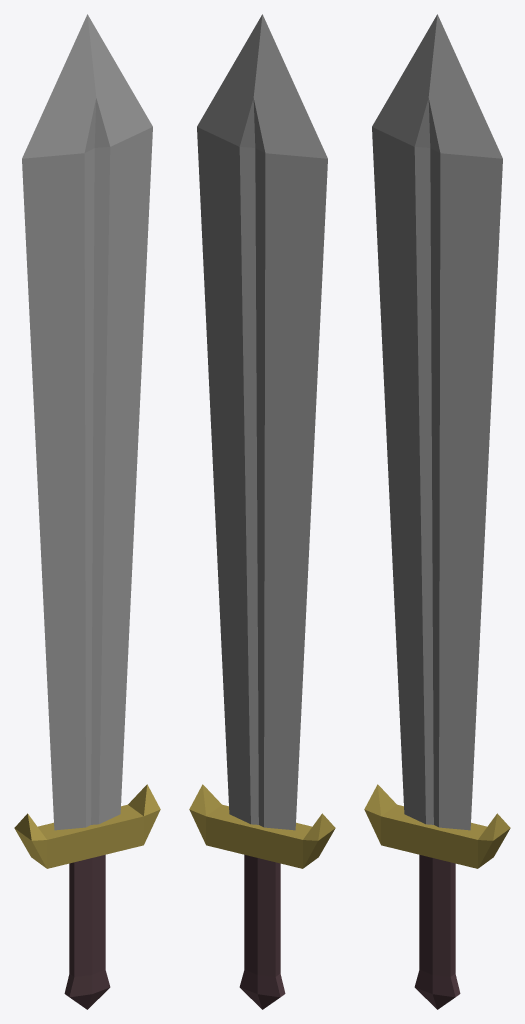
The model's file is GoonBase_Sword.fbx.
The picture shows the model from 3 angles, left to right: view 1: azimuth 30°, elevation 25°; view 2: azimuth 150°, elevation 25°; view 3: azimuth 330°, elevation 25°; orthographic projection.
Visible parts, largest first — view 1: Sword; view 2: Sword; view 3: Sword.
Part boxes in pixels (x1,y1,x2,y2): Sword: (14, 14, 160, 1009); Sword: (189, 14, 335, 1009); Sword: (364, 14, 510, 1009).
Bounding box in the file's own units: 23.66 × 172 × 6.21.
